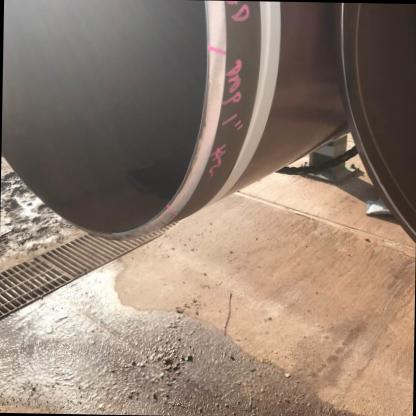Bevel: (185, 77, 217, 176)
